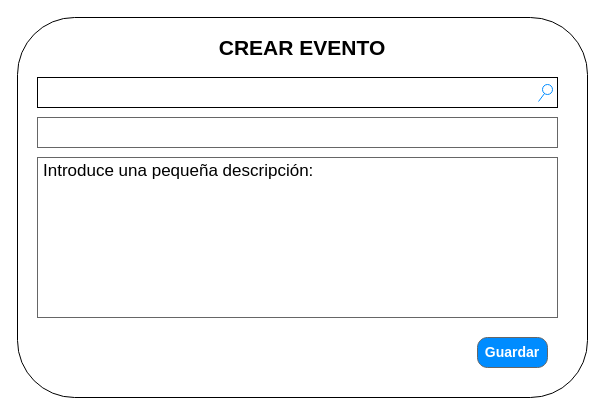
The diagram is 605 pixels wide and 415 high, and some of its shapes have lost their labels. The shapes that lost their labels are listed below. From the top down, each one's centre as x and y in pixels, then its label:
At (x=297, y=92): "Lugar del evento".
At (x=297, y=132): "Nombre del evento".
